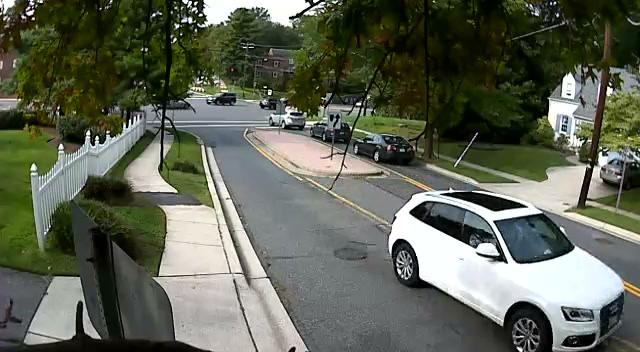car: (386, 188, 626, 352), (351, 133, 414, 165), (599, 150, 640, 189), (310, 114, 351, 143), (268, 108, 306, 129), (161, 100, 195, 111), (215, 92, 237, 105)
truck: (268, 108, 306, 129)
